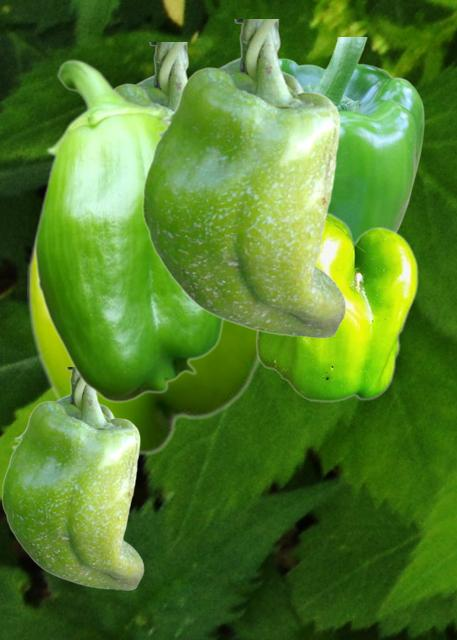bell_pepper: (33, 59, 224, 402), (141, 19, 345, 337), (27, 230, 260, 455), (1, 367, 143, 589), (255, 211, 417, 401), (279, 37, 423, 239), (115, 42, 190, 116)
